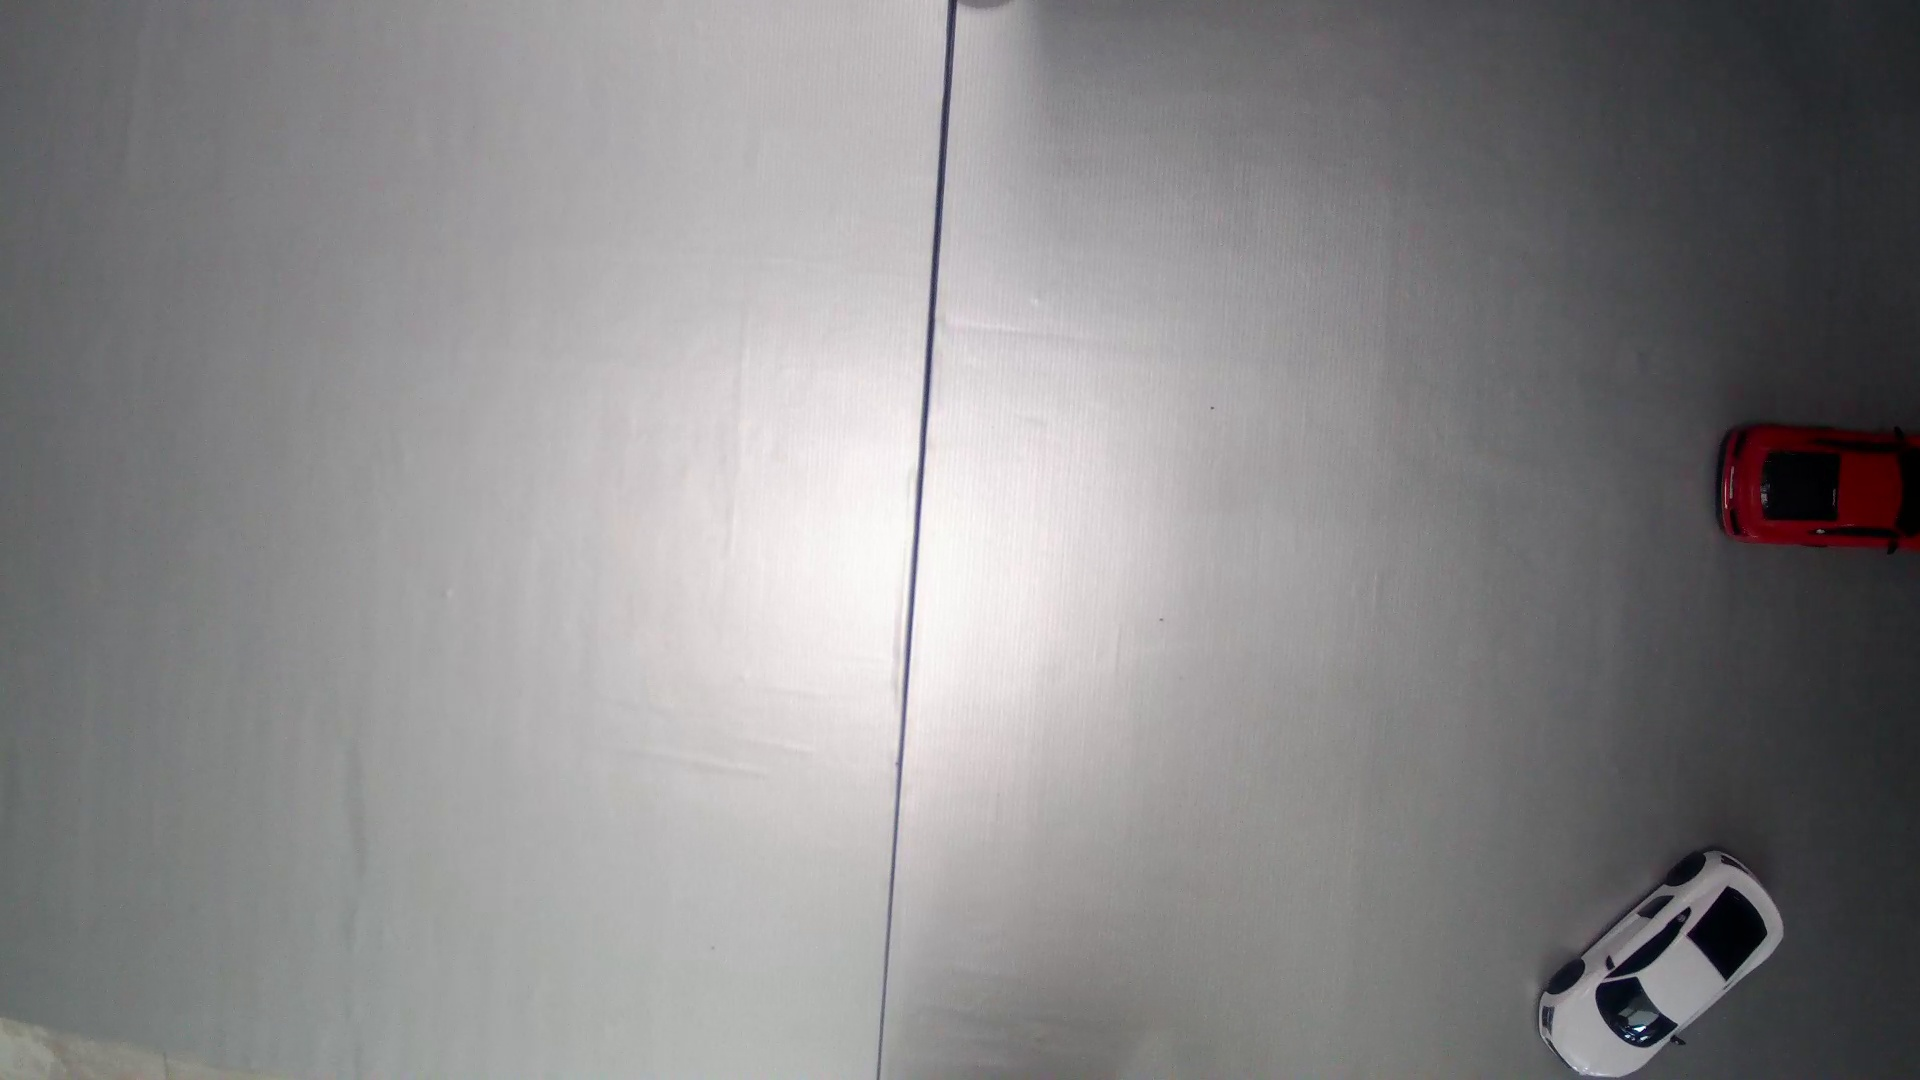remote_car: (1535, 847, 1785, 1080), (1713, 419, 1917, 556)
